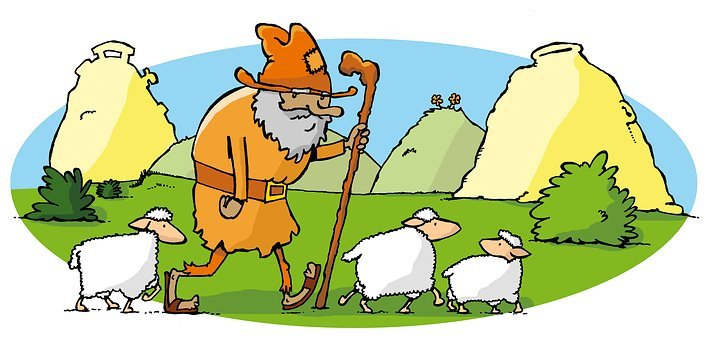person: (183, 19, 343, 308)
sheep: (50, 197, 187, 318), (330, 203, 465, 322), (430, 225, 539, 324)
